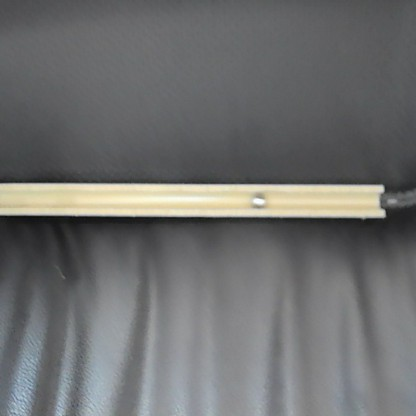ironball: (247, 190, 265, 210)
